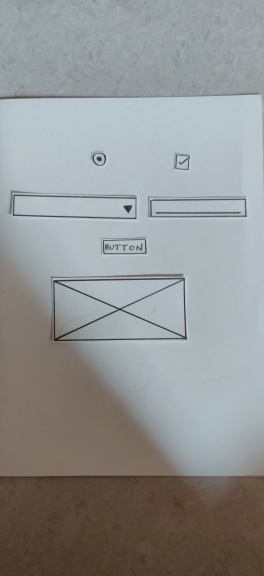button: (95, 235, 152, 258)
checkbox: (170, 151, 194, 173)
dropdown: (7, 188, 140, 224)
img: (46, 272, 194, 346)
radio: (88, 148, 111, 168)
text: (146, 192, 250, 221)
